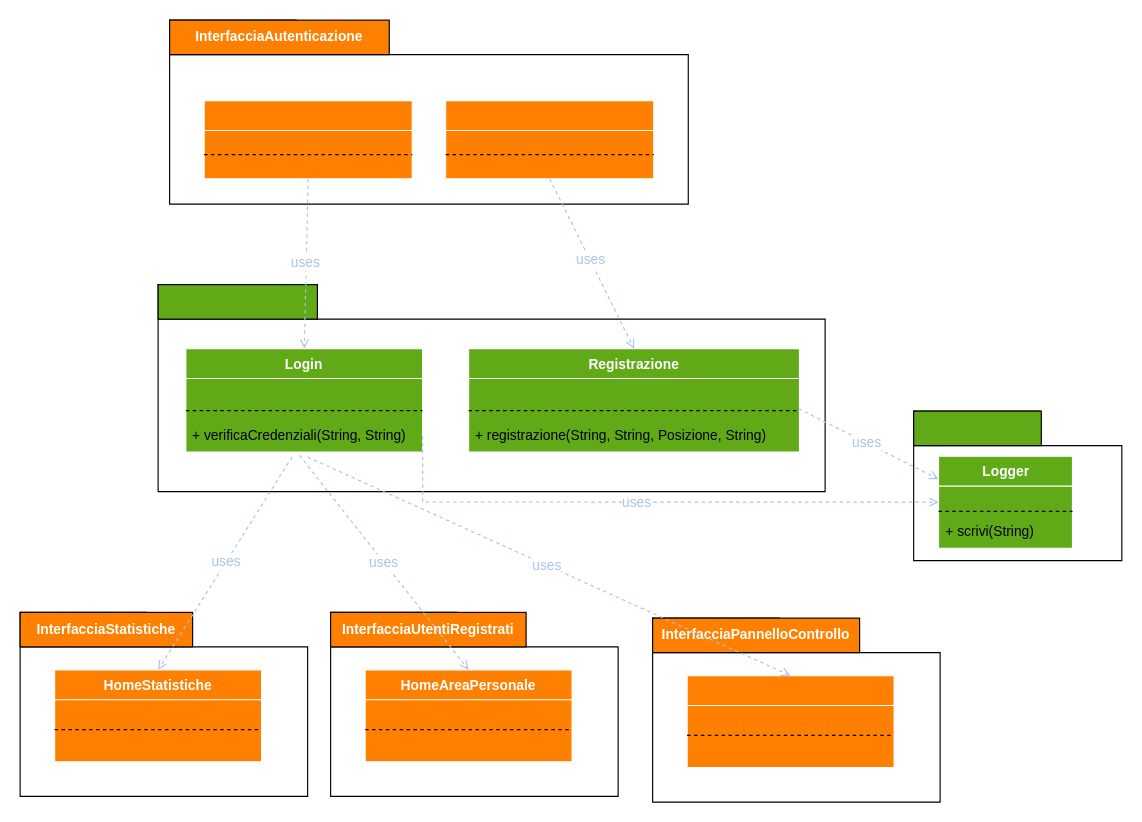
Image size: 1142x822. Some labels were removed from this diagram. Each missing label, with the centre of its shape:
"Autenticazione" goes at (237,301).
"HomePannelloControllo" goes at (790,721).
"Log" goes at (977,428).
"ViewLogin" goes at (307,139).
"ViewRegistrazione" goes at (549,139).
